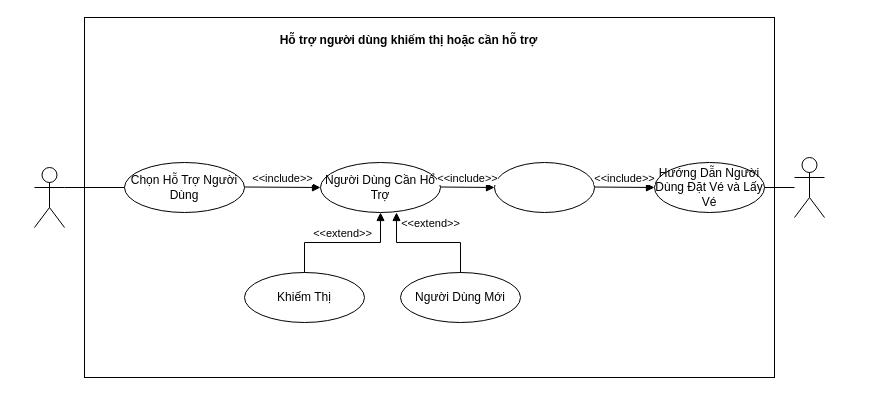
Some shapes in this 882 by 395 pixel diagram are drawn without their labels. Here are the shapes that lost their labels. From the top down, the centre of each, then its label:
At pixel 49 197: "Người dùng".
At pixel 544 187: "Hệ Thống Hỗ Trợ Người Dùng bằng giọng nói".
At pixel 809 187: "Hệ Thống".
